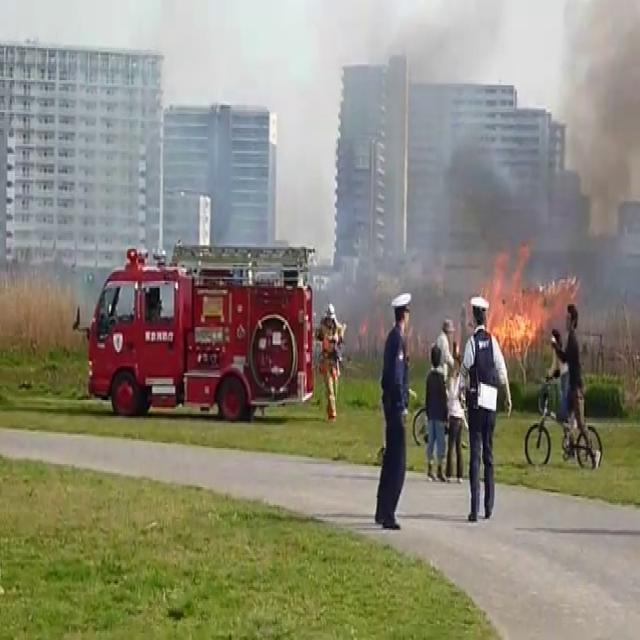Fire: (487, 300, 550, 354)
Smoke: (314, 0, 640, 311)
